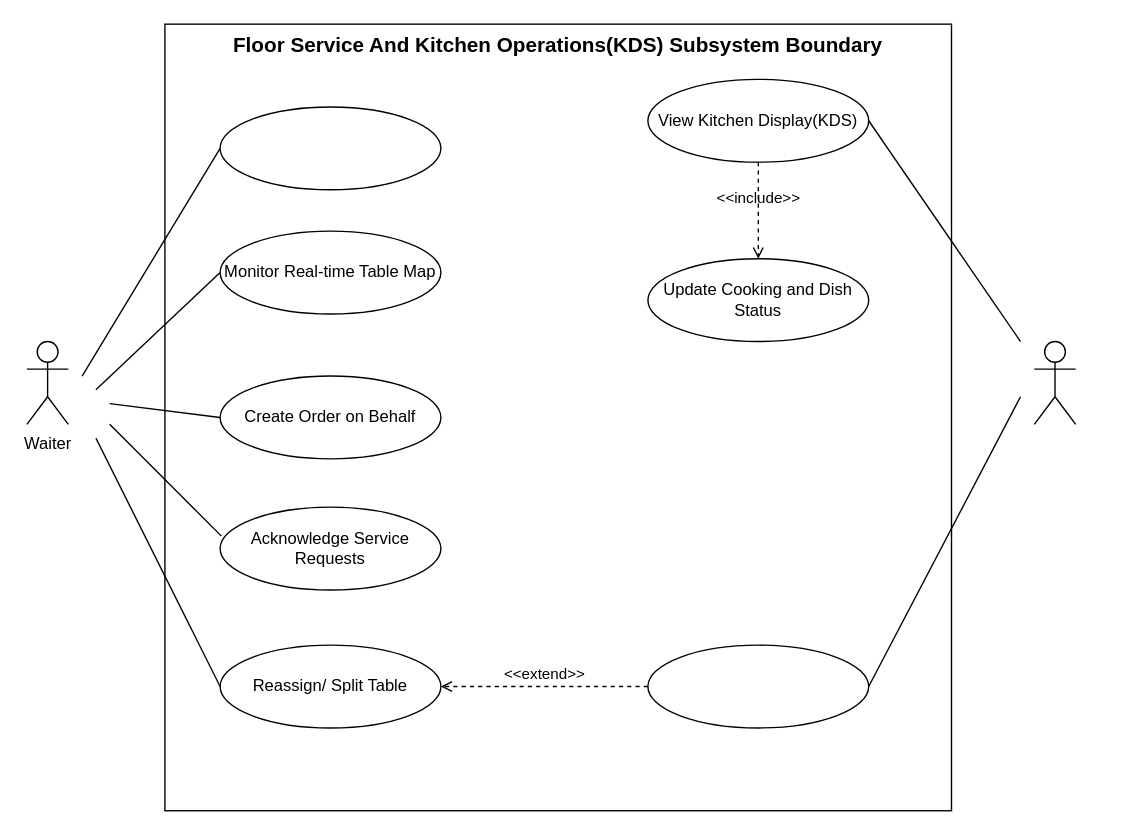
The diagram is 1125 pixels wide and 835 high, and some of its shapes have lost their labels. The centre of each missing label's shape, as x and y in pixels:
Cancel/ Void Dish: point (758, 686)
Create/ Assign Table Session: point (330, 148)
Kitchen Staff: point (1054, 382)
